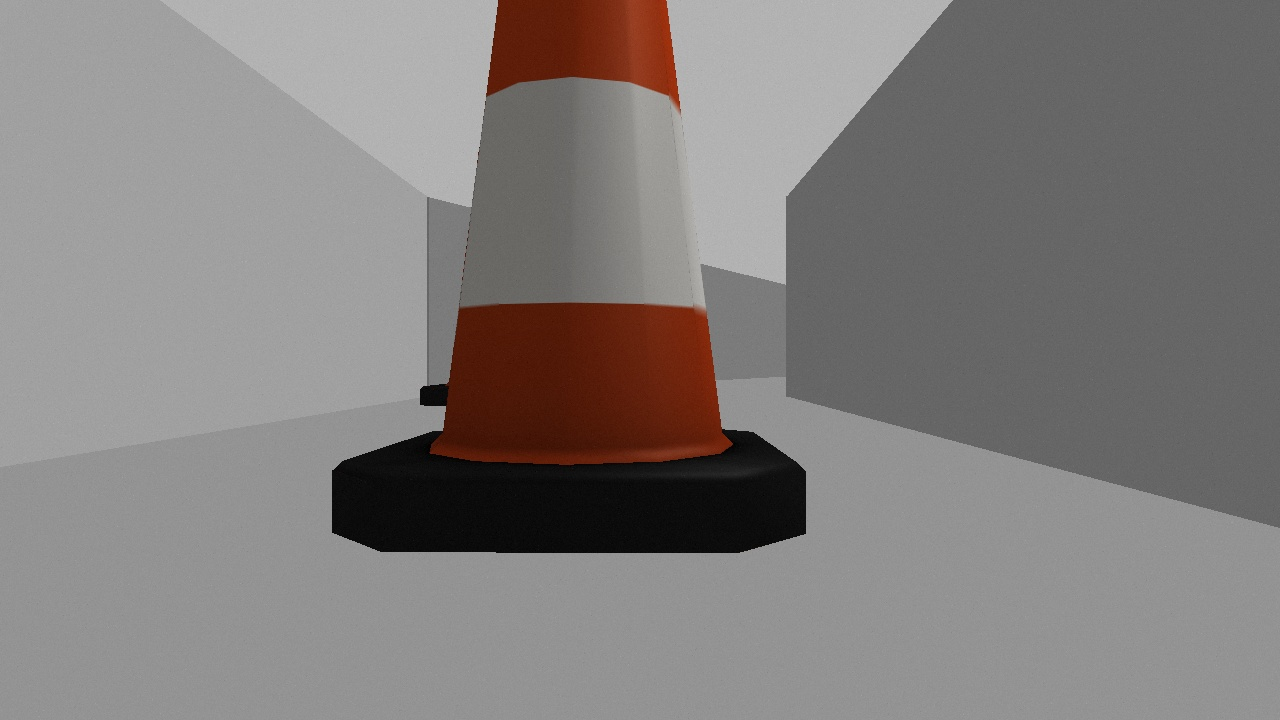barricade: (308, 1, 833, 571)
